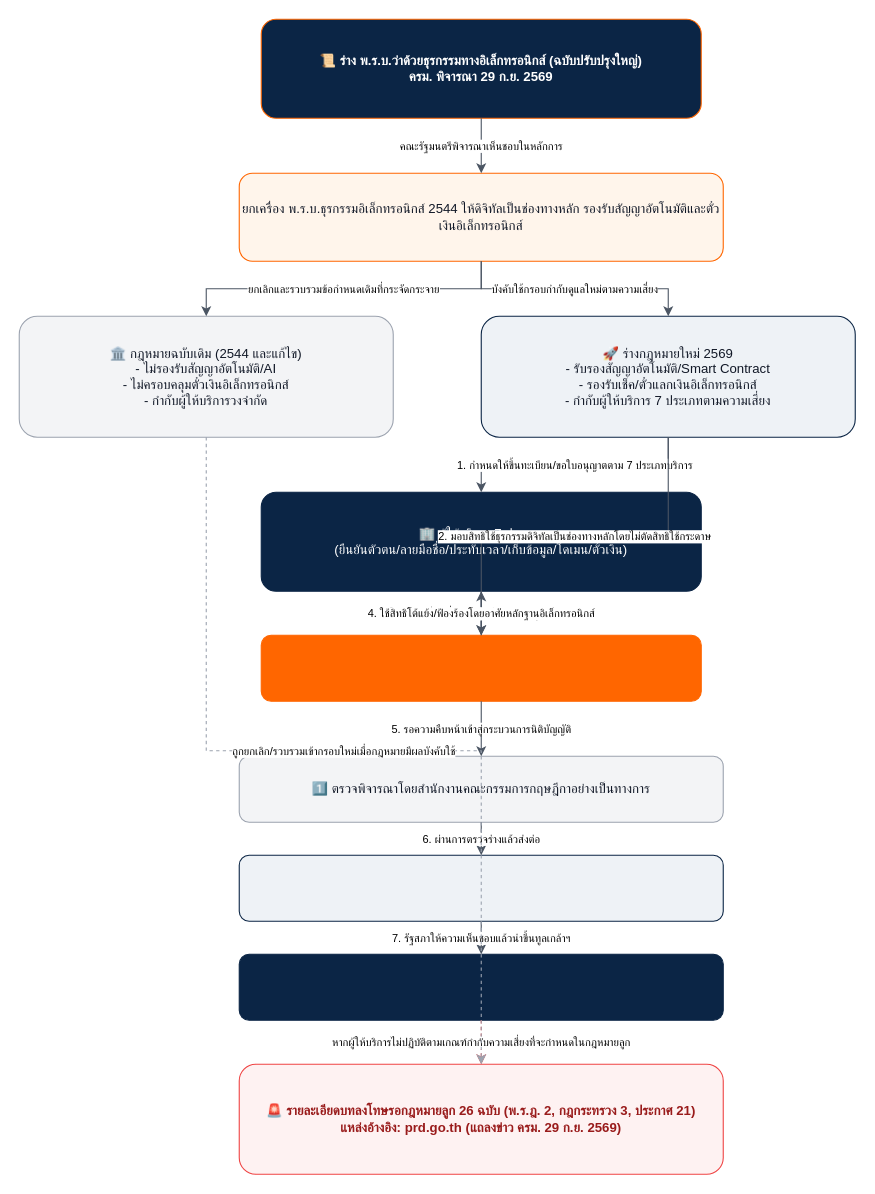
The diagram is 875 pixels wide and 1194 high, and some of its shapes have lost their labels. Each missing label, with the box of its shape:
2️⃣ เสนอเข้าสู่กระบวนการพิจารณาของรัฐสภา: (238, 854, 723, 921)
3️⃣ ประกาศในราชกิจจานุเบกษา แล้วมีผล 180 วันถัดไป: (238, 953, 723, 1020)
👤 ประชาชน / ผู้ทำธุรกรรมออนไลน์: (260, 634, 701, 701)
